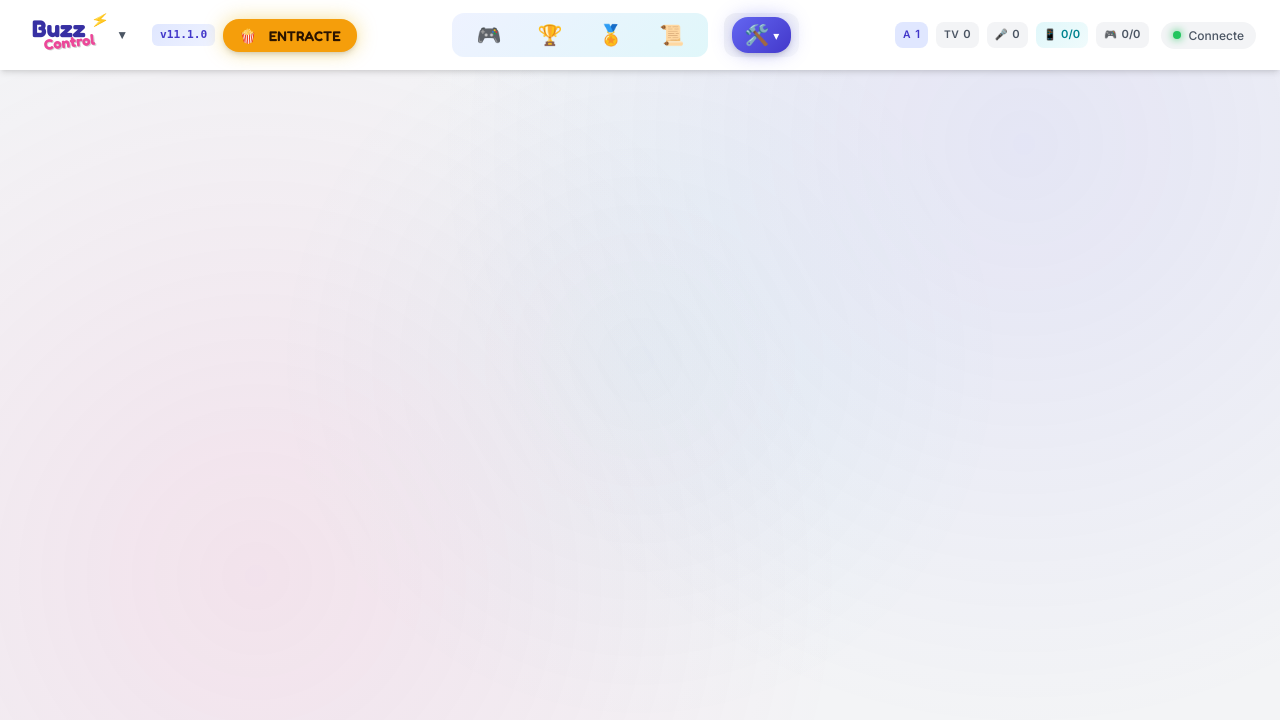
Test case: Navbar — ouverture/fermeture du menu inchangée (#239 AC2) › le menu ouvert contient toujours ses entrées (au moins une entrée de navigation)
The width and height of the screenshot is (1280, 720).
Click the button with aria-label "Menu de navigation" at (80, 35), box [24, 12, 136, 58]
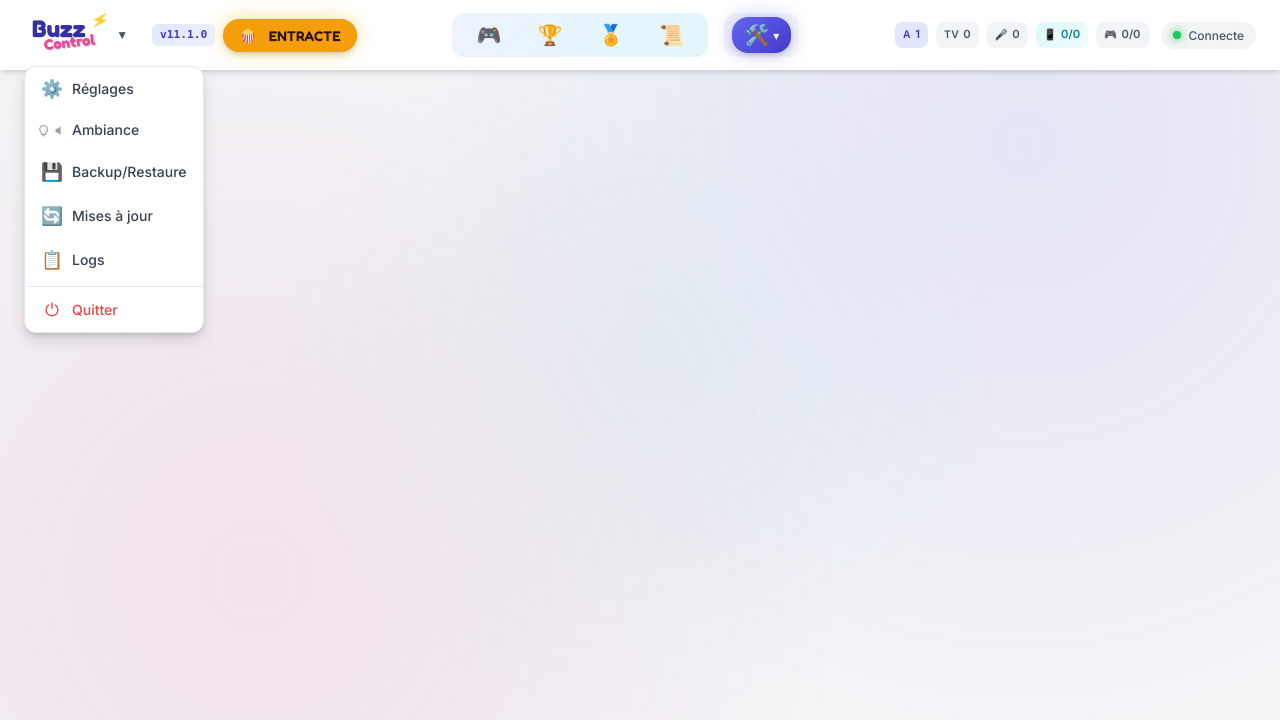
Expected: the link with class "menu-item" showing "⚙️ Réglages" is shown, [41, 78, 134, 99]
